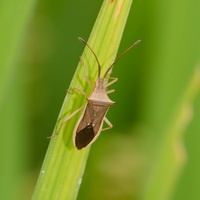insect: (74, 37, 140, 149)
